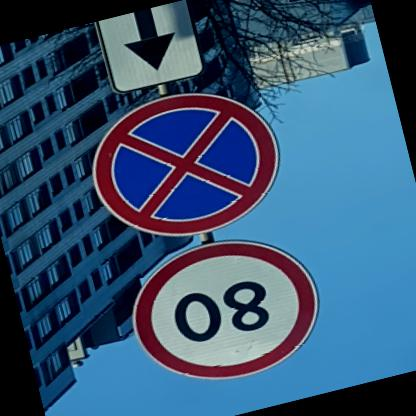speedlimit: (121, 220, 338, 400)
